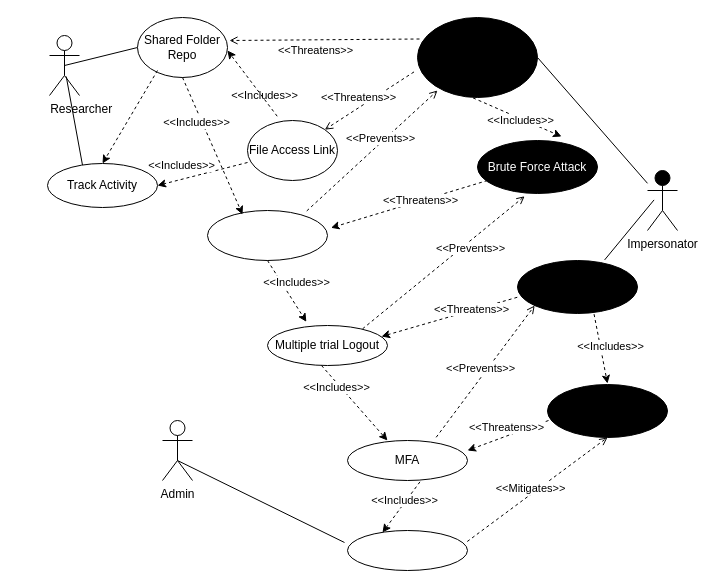
Some shapes in this 715 by 588 pixel diagram are drawn without their labels. Each missing label, with the centre of its shape:
"Malware" belongs at [607,411].
"Phishing / Social Engineering" belongs at [577,287].
"Regular Update" belongs at [407,550].
"Set Password / Permission" belongs at [267,235].
"Unauthorized File Access" belongs at [477,57].
